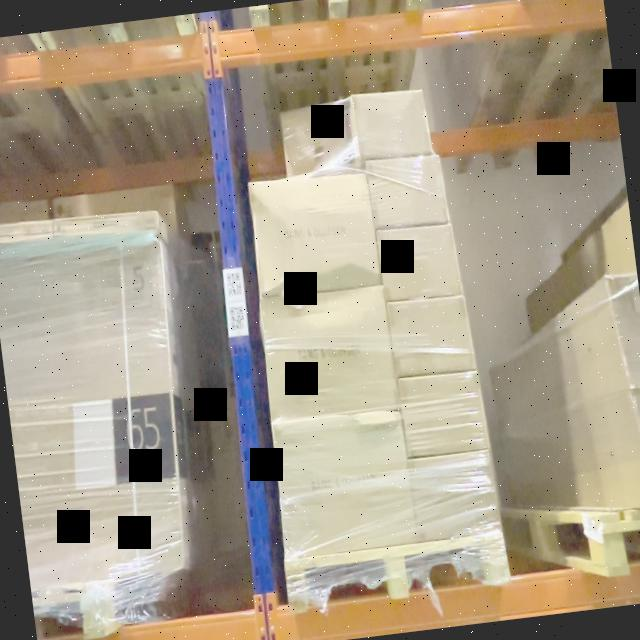box: (0, 233, 194, 585), (270, 409, 416, 558), (257, 287, 396, 421), (248, 172, 377, 294), (401, 370, 488, 458), (412, 455, 498, 540), (390, 297, 474, 376), (380, 224, 460, 301), (370, 156, 448, 228), (354, 88, 431, 160), (282, 106, 354, 176)
